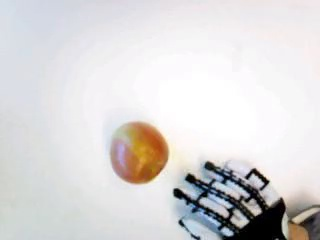apple: (109, 119, 167, 182)
hand: (172, 157, 289, 240)
